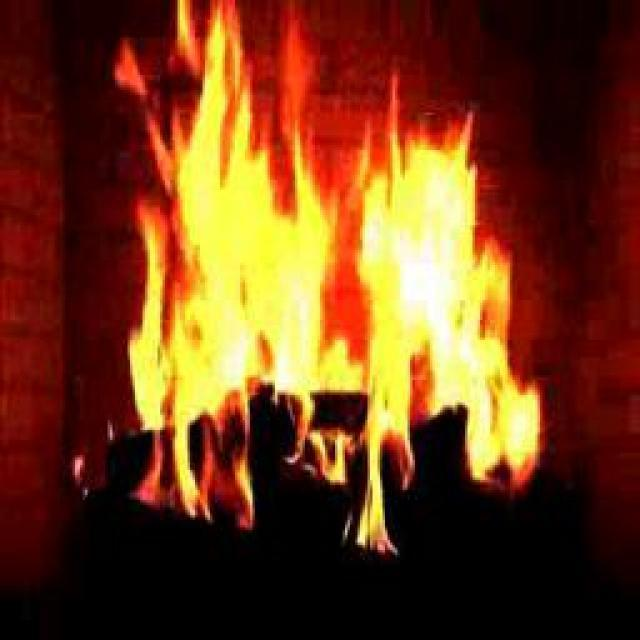Fire: (97, 38, 540, 473)
